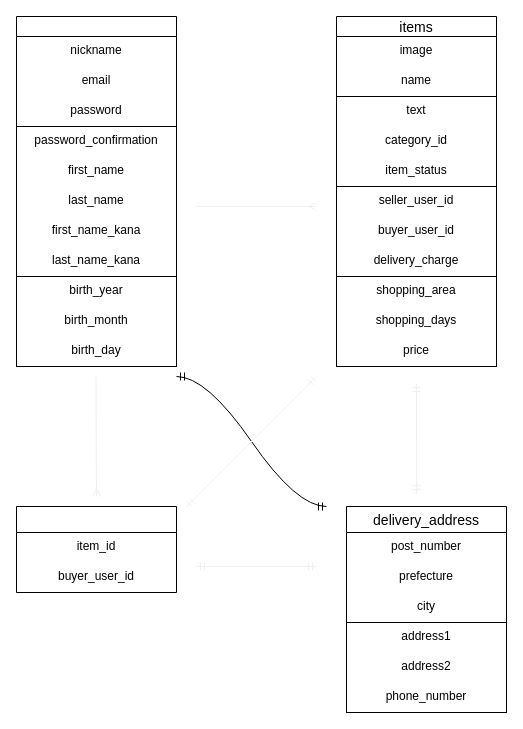
Some shapes in this 523 by 729 pixel diagram are drawn without their labels. The shapes that lost their labels are listed below. From the top down, each one's box as (x1, y1, x2, y2) in pixels, then its label:
(16, 16, 176, 366): users
(16, 506, 176, 592): orders
